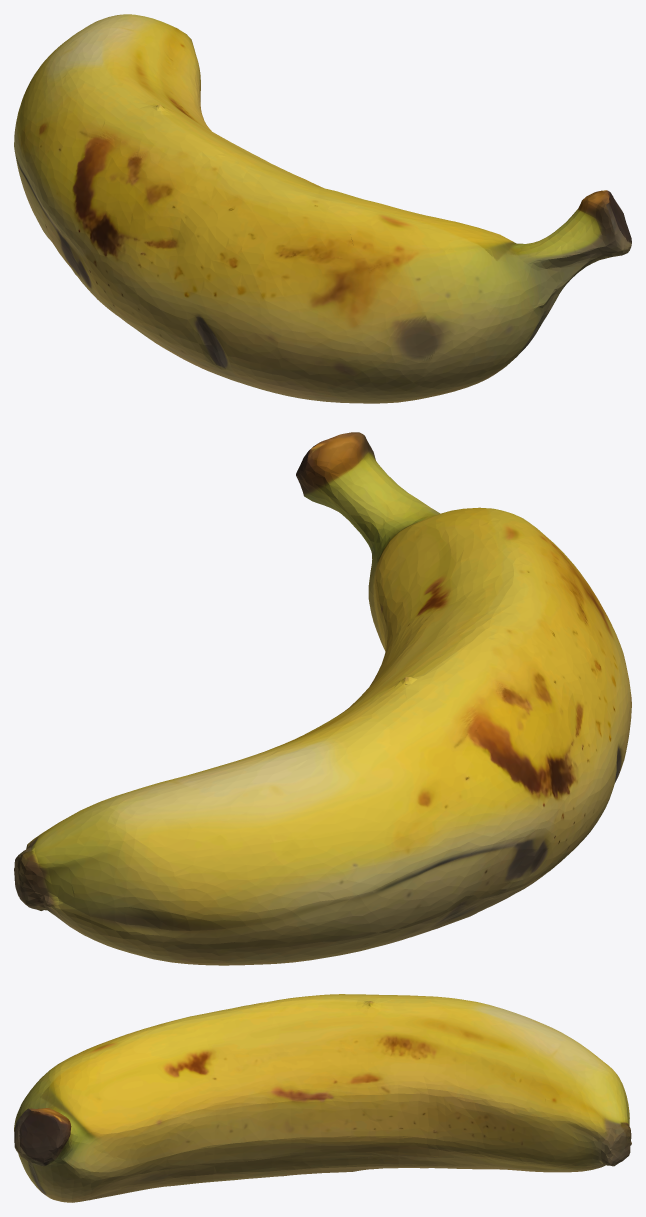
3 renders of one model, top to bottom at view 1: azimuth 30°, elevation 25°; view 2: azimuth 150°, elevation 25°; view 3: azimuth 270°, elevation 25°, orthographic. The views are drawn at different scales.
Visible parts, largest first — view 1: banana.obj; view 2: banana.obj; view 3: banana.obj.
Boxes of the visible parts, box(x1,y1,x2,y2) form: banana.obj: box(14, 14, 631, 403); banana.obj: box(14, 432, 631, 965); banana.obj: box(14, 994, 631, 1202).
Bounding box in the file's own units: 0.1056 × 0.0548 × 0.18.
Materials: 1 (1 with a texture image).
